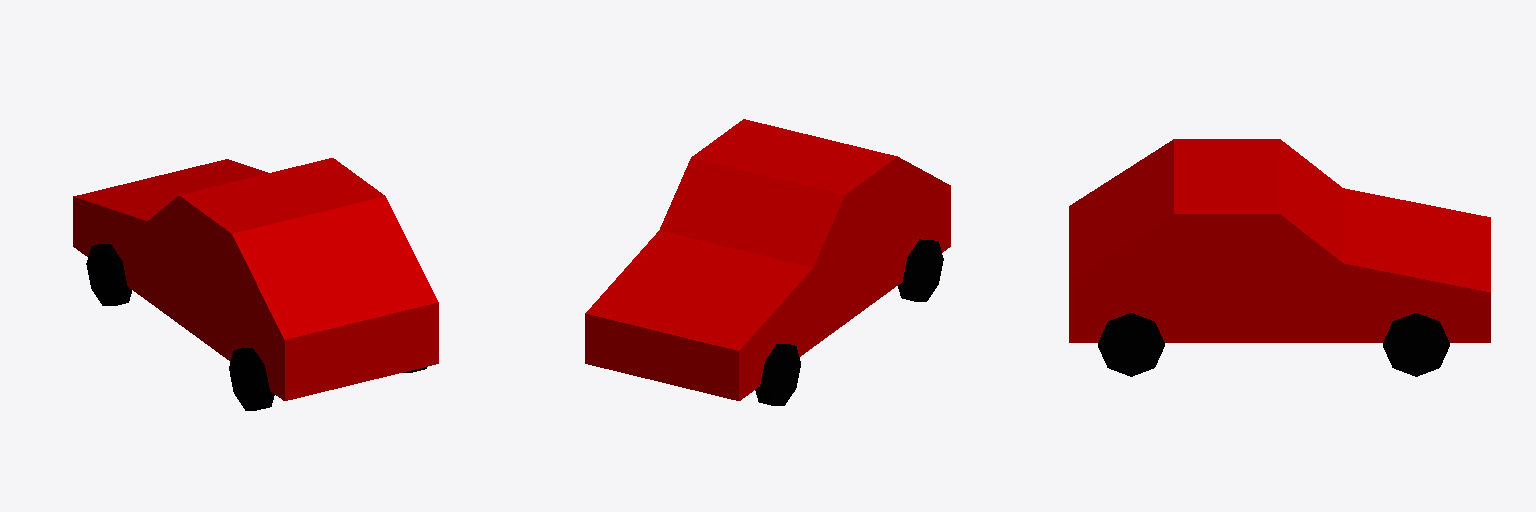
Rendered from car.obj.
The picture shows the model from 3 angles: view 1: azimuth 30°, elevation 25°; view 2: azimuth 150°, elevation 25°; view 3: azimuth 270°, elevation 25°; orthographic projection.
Parts seen in each view (by area): view 1: Car; view 2: Car; view 3: Car.
Part boxes in pixels (bbox=[...]): Car: bbox=[73, 158, 438, 410]; Car: bbox=[585, 119, 950, 405]; Car: bbox=[1069, 139, 1490, 376].
Bounding box in the file's own units: 0.317 × 0.2846 × 0.684.